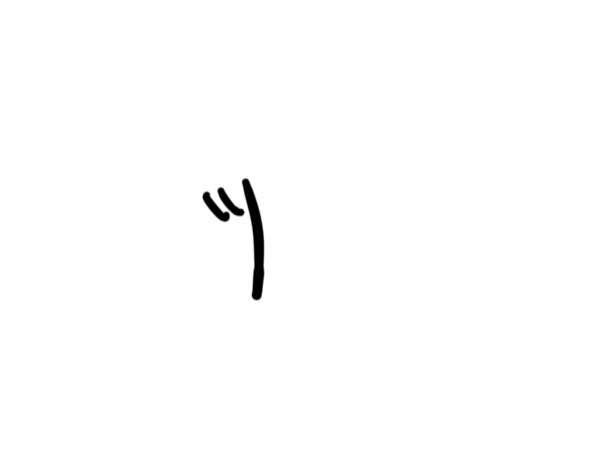tsu: (175, 166, 272, 305)
